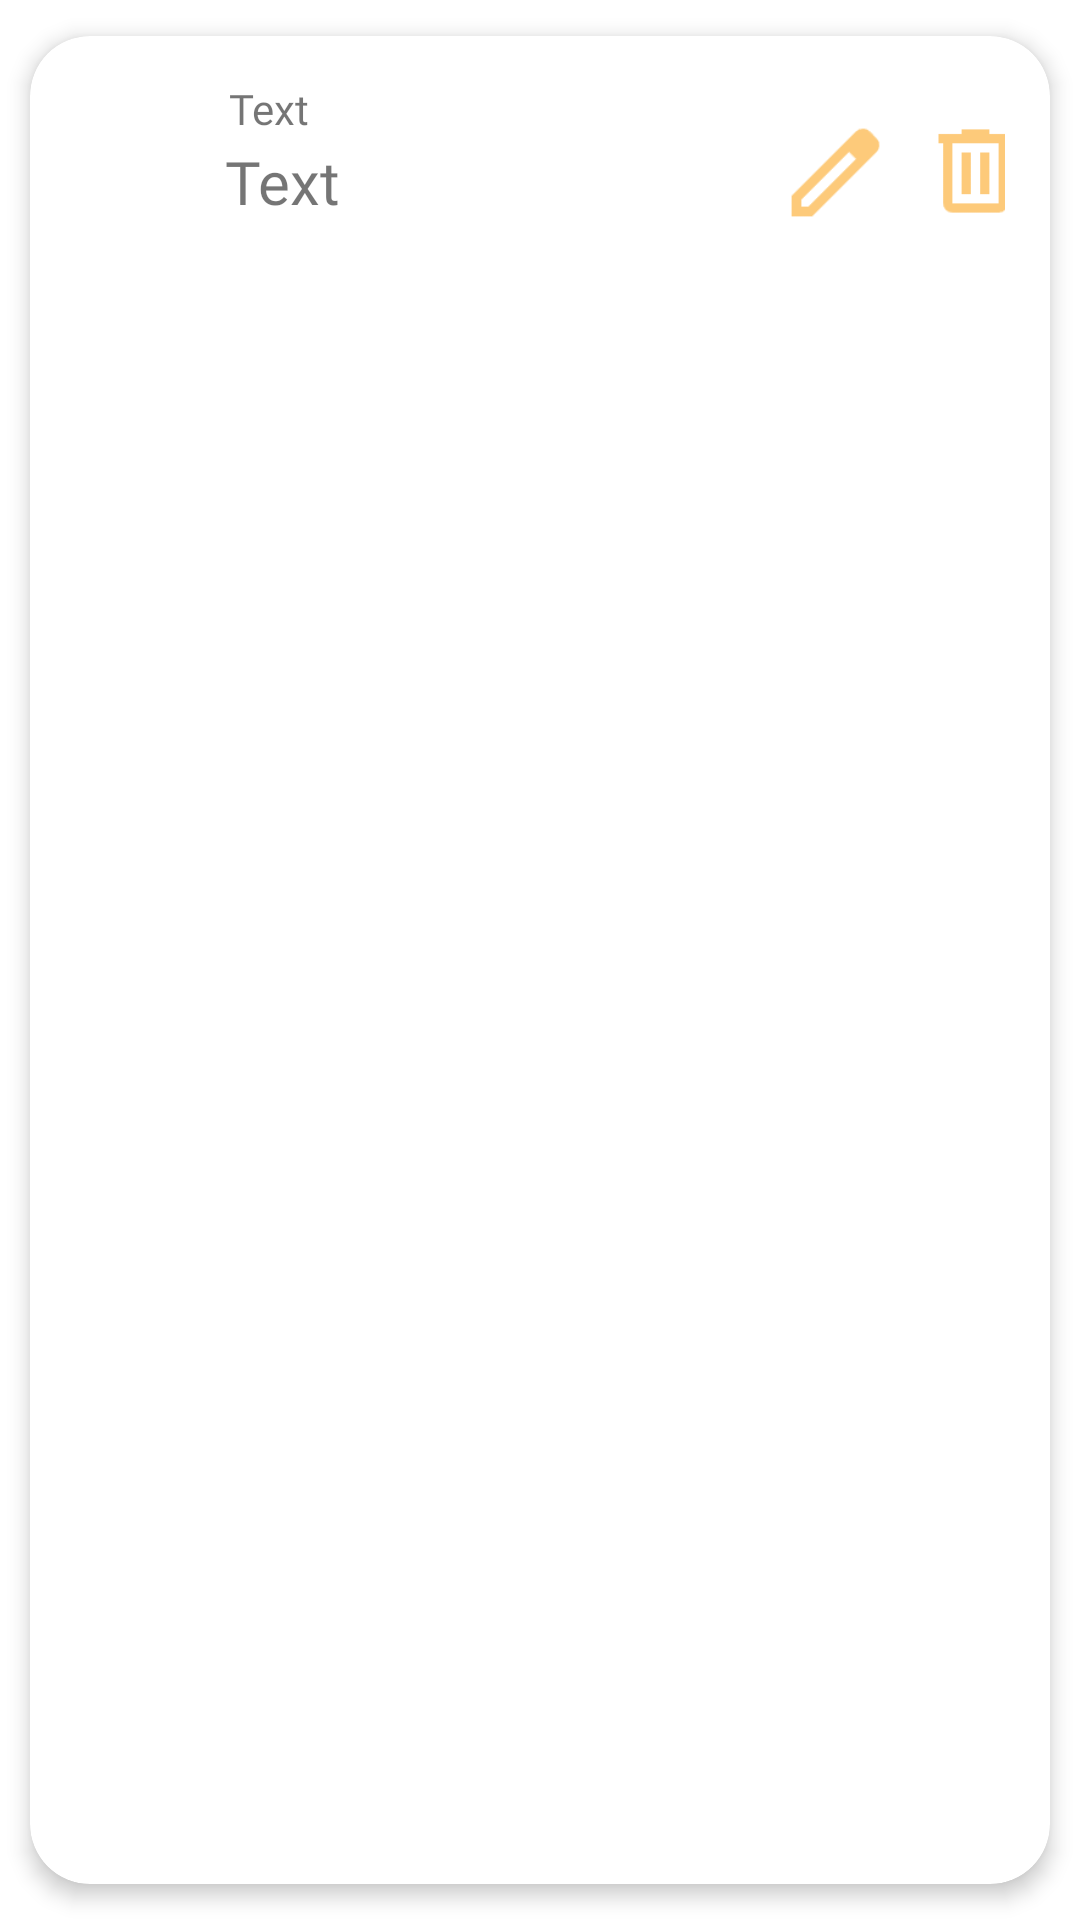

Point at icon controls on the screen. Image size 1080 × 1920, points as (x,y).
basurerorgoo: (971,171)
editetetet: (835,172)
